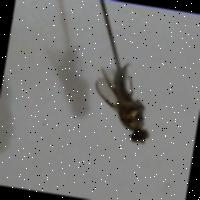Oriental-fruit-fly: (77, 50, 166, 158)
